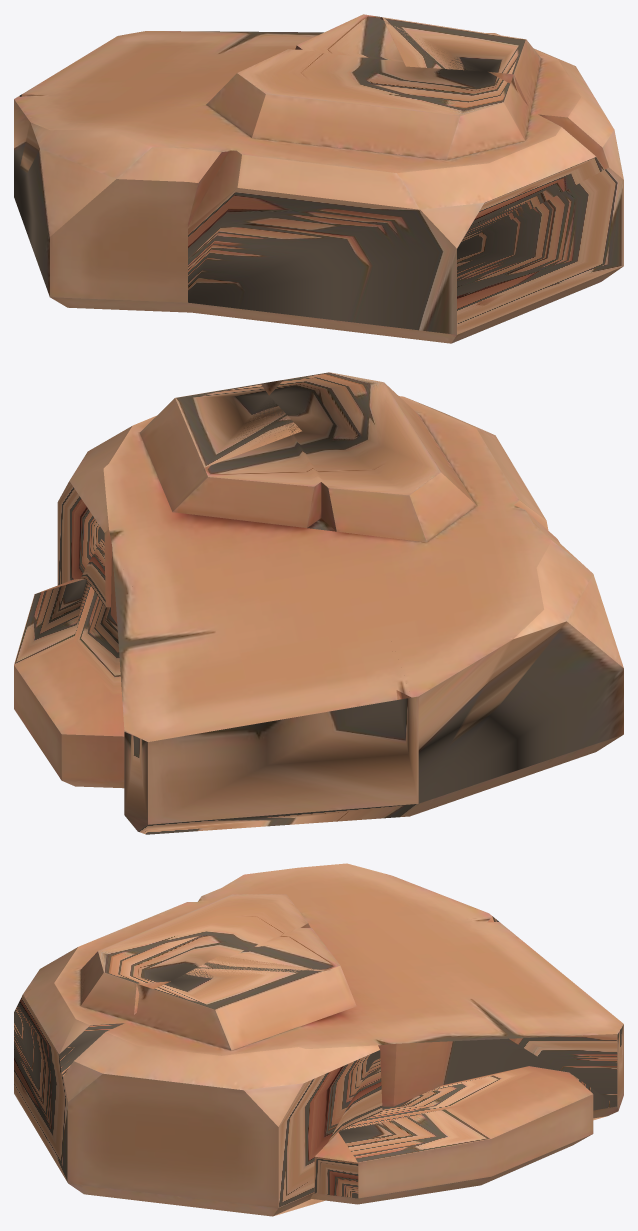
Rendered from desert-rock-15.glb.
The picture shows the model from 3 angles, top to bottom: view 1: azimuth 30°, elevation 25°; view 2: azimuth 150°, elevation 25°; view 3: azimuth 270°, elevation 25°; orthographic projection. The views are drawn at different scales.
Visible parts, largest first — view 1: Rock_9; view 2: Rock_9; view 3: Rock_9.
Part boxes in pixels (x1=…): Rock_9: x1=14, y1=14, x2=623, y2=343; Rock_9: x1=14, y1=372, x2=623, y2=834; Rock_9: x1=14, y1=863, x2=623, y2=1216.
Bounding box in the file's own units: 3.49 × 1.3 × 3.78.
1 material, 1 textured.
